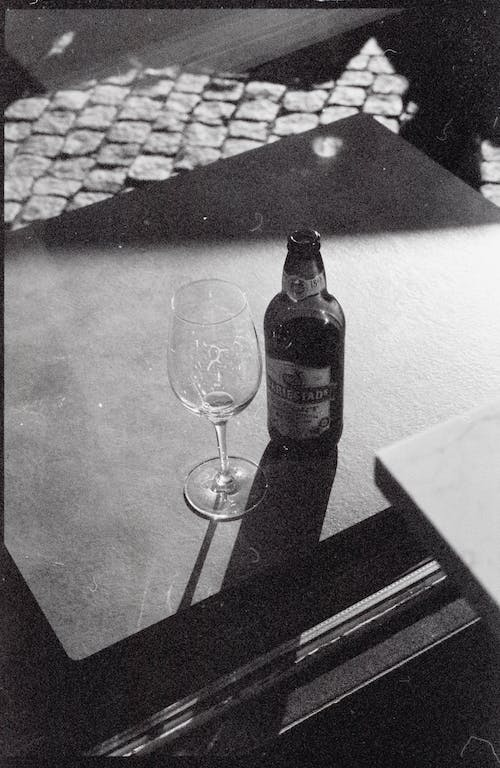alcohol: (165, 277, 270, 523), (261, 227, 347, 452)
